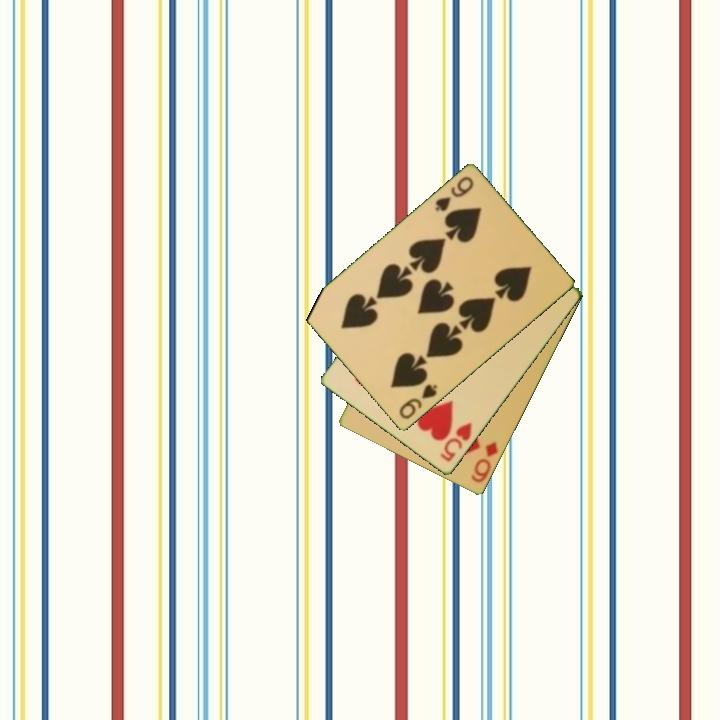5h: (436, 419, 475, 465)
6d: (468, 438, 501, 486)
9s: (395, 381, 440, 423), (432, 173, 476, 215)
